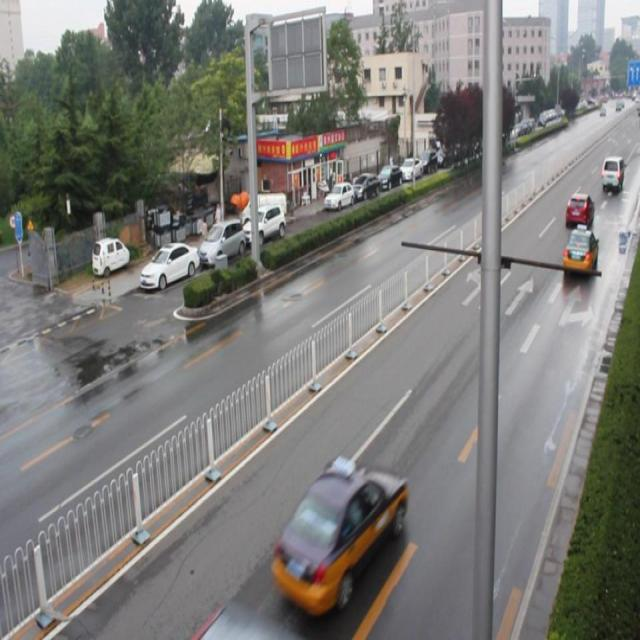car: (269, 458, 408, 606), (561, 225, 597, 282), (564, 192, 594, 226)
truck: (600, 156, 622, 191)
